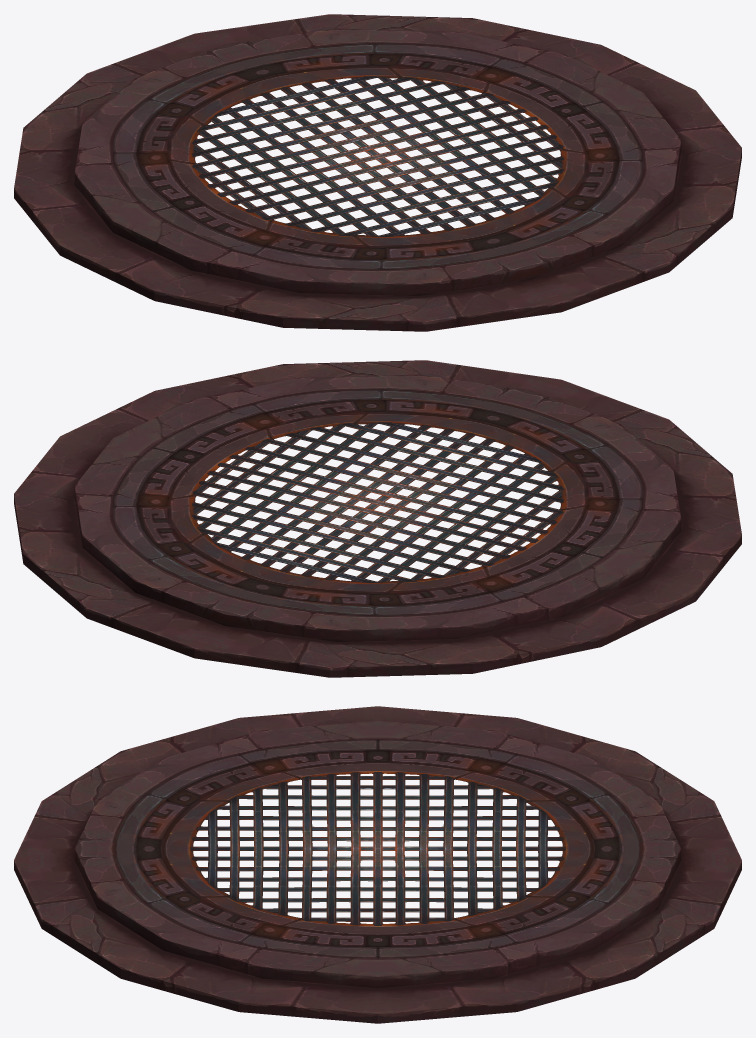
File: rongyan_zujian_11.FBX
3 renders of one model, top to bottom at view 1: azimuth 30°, elevation 25°; view 2: azimuth 150°, elevation 25°; view 3: azimuth 270°, elevation 25°, orthographic.
Visible parts, largest first — view 1: rongyan_zujian_11; view 2: rongyan_zujian_11; view 3: rongyan_zujian_11.
Boxes of the visible parts, left/top/right/bottom form: rongyan_zujian_11: left=14, top=14, right=741, bottom=331; rongyan_zujian_11: left=14, top=360, right=741, bottom=677; rongyan_zujian_11: left=14, top=706, right=741, bottom=1023.
Bounding box in the file's own units: 1185 × 37.87 × 1185.
